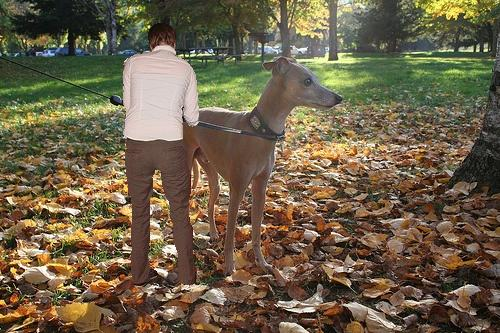tampered: (123, 24, 199, 287)
